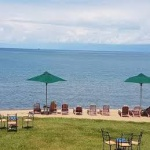Lake: (5, 48, 147, 121)
